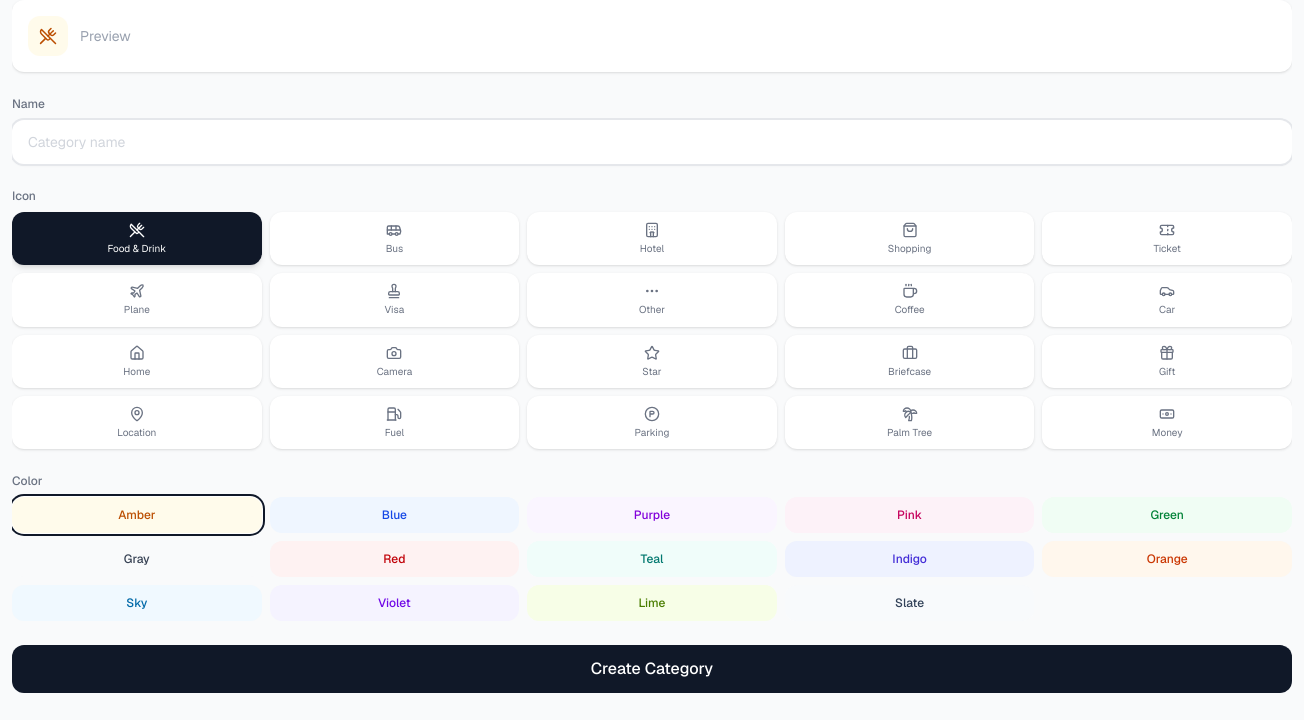
Scenario: CategoryForm › shows validation error for short category name
The width and height of the screenshot is (1304, 720).
Type "a" into the field with placeholder "Category name" at (652, 142), box [12,120,1292,164]
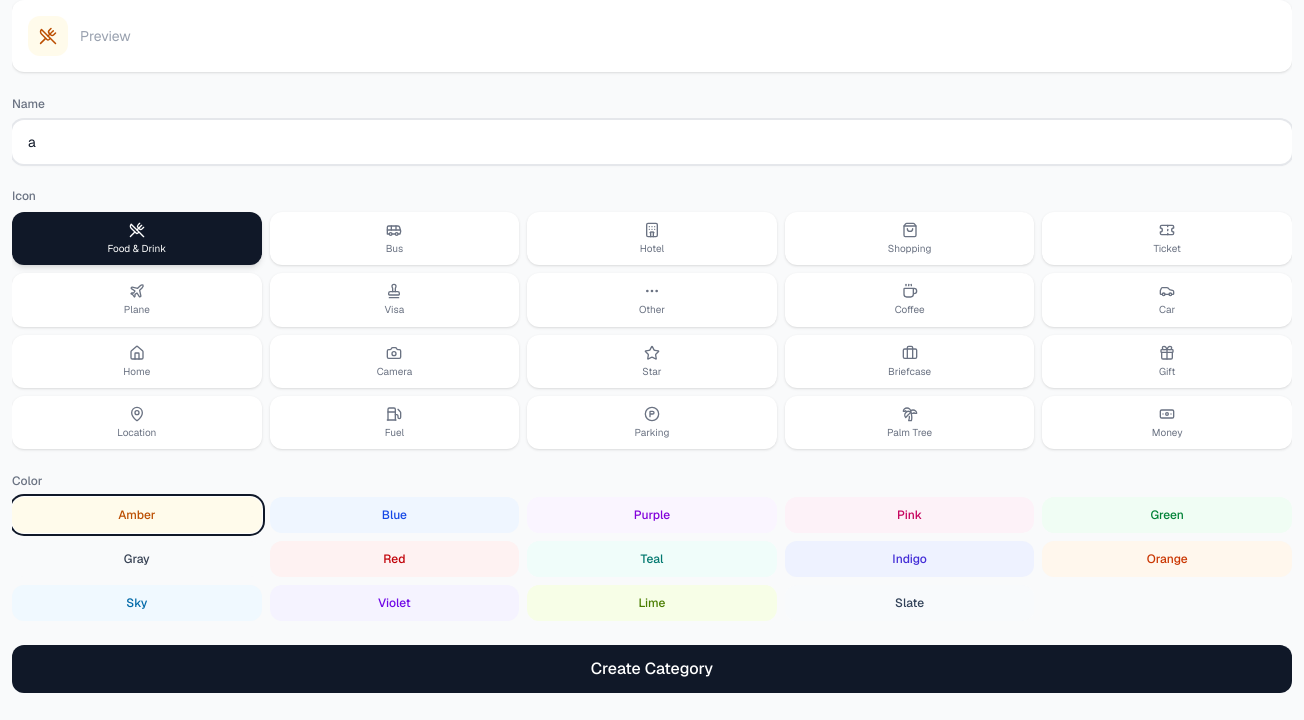
Press Tab
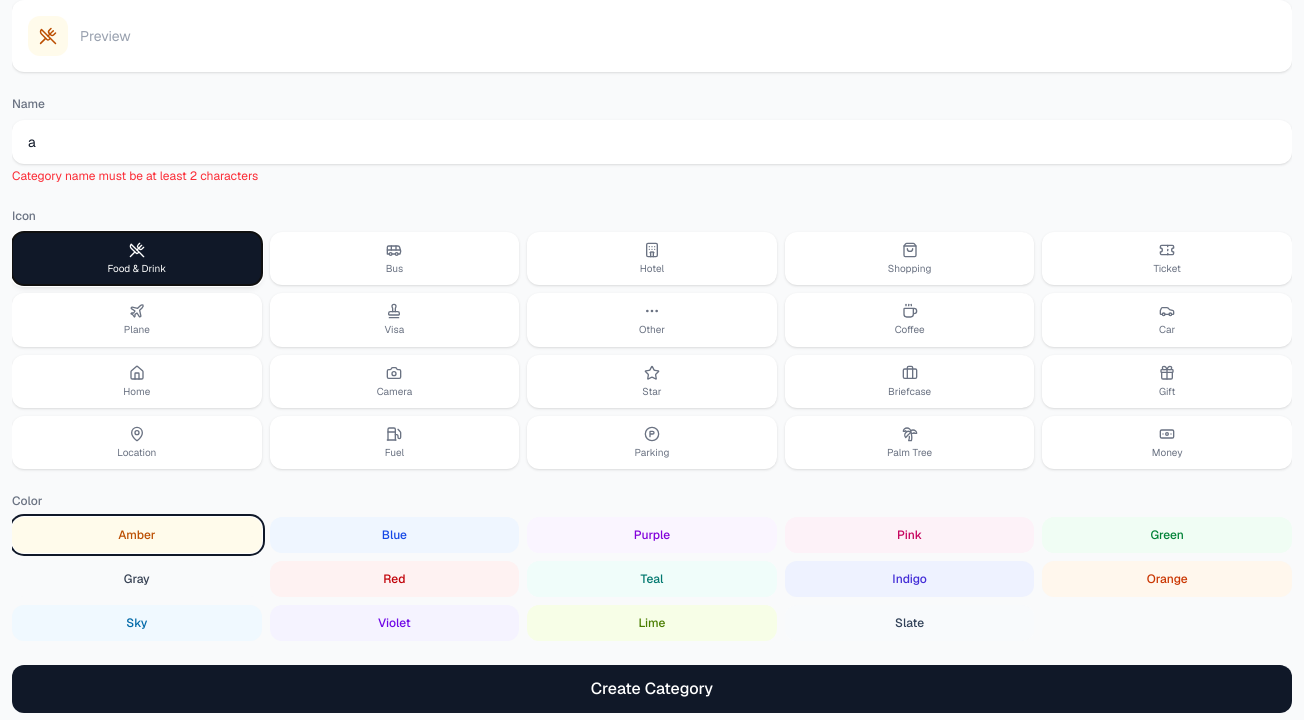
expect the text "Category name must be at least 2 characters" is shown: met, box [12,168,258,184]
